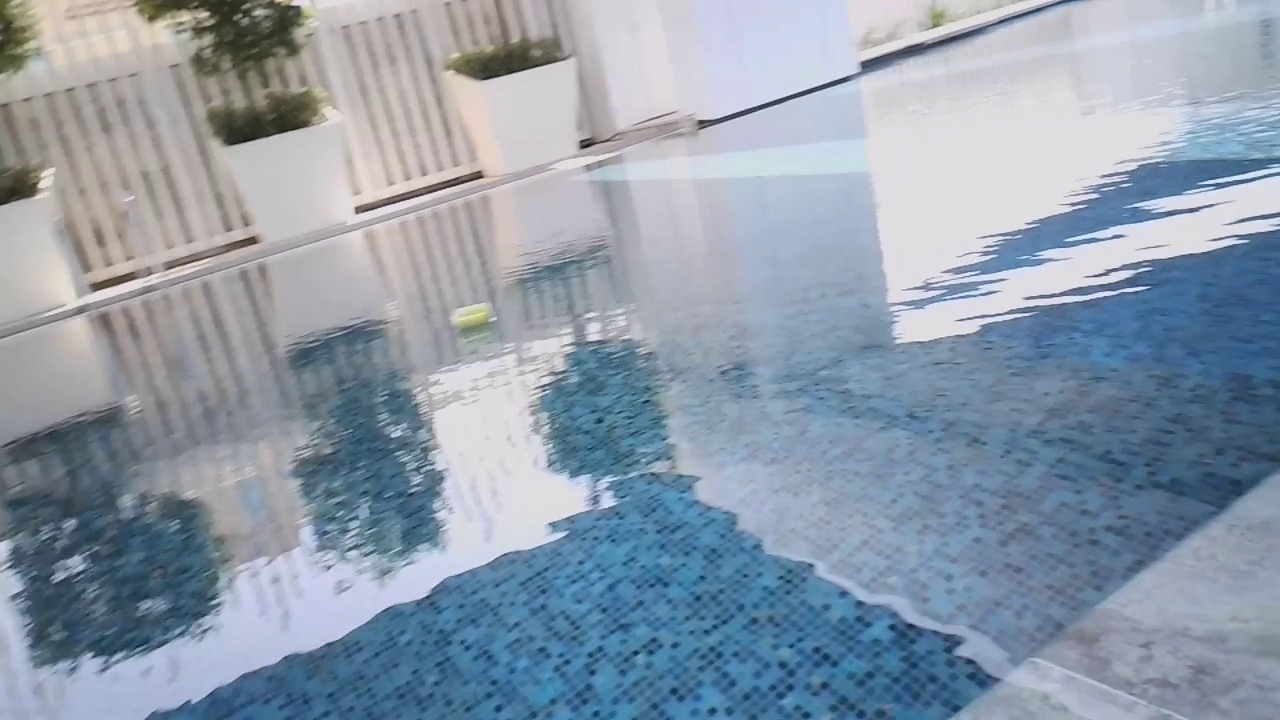debris: (444, 302, 502, 334)
